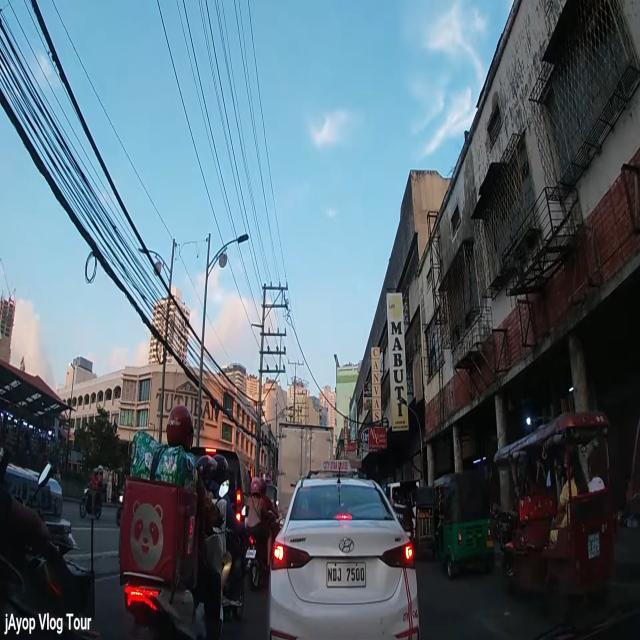car: (268, 458, 419, 640), (192, 445, 252, 568)
motorcycle: (119, 406, 232, 640), (242, 477, 280, 595), (80, 464, 104, 520)
tricycle: (491, 411, 618, 608), (427, 469, 495, 578), (396, 480, 434, 550)
truck: (275, 422, 335, 514)
